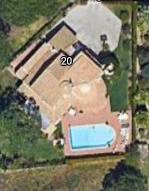pool: (71, 128, 112, 147)
